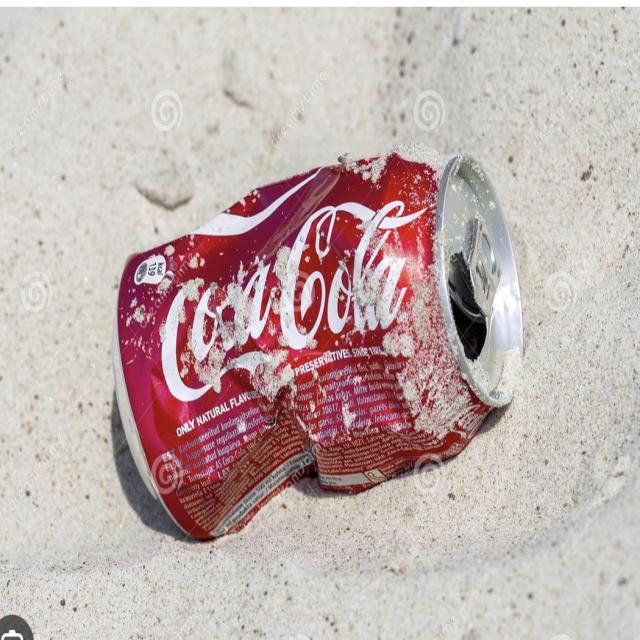recyclable: (47, 92, 561, 552)
